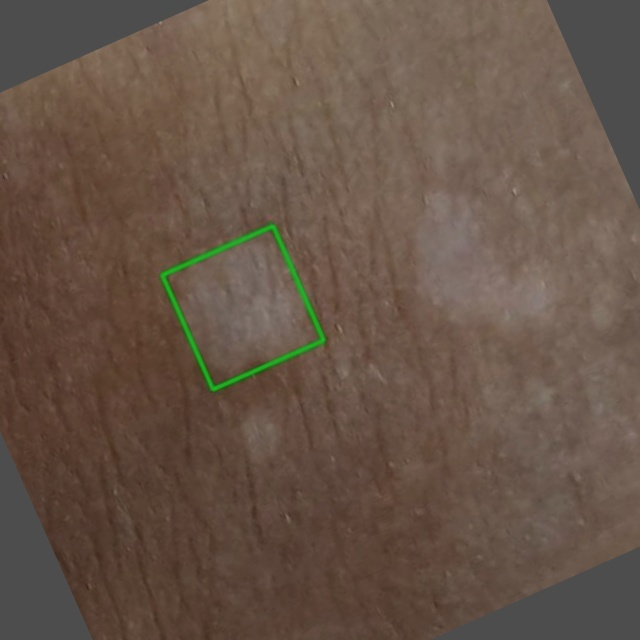Eczema: (162, 225, 323, 389)
